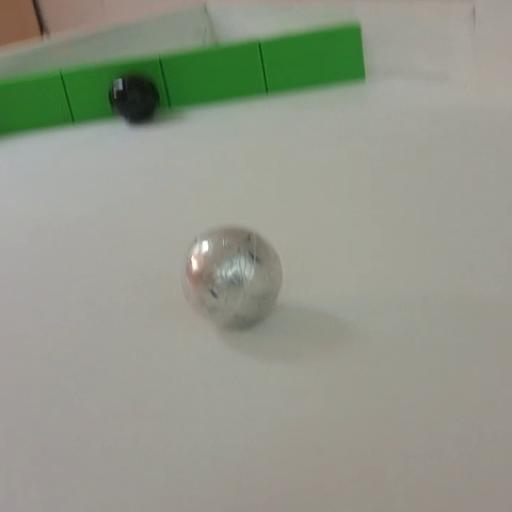alive: (180, 223, 286, 333)
dead: (108, 74, 160, 126)
